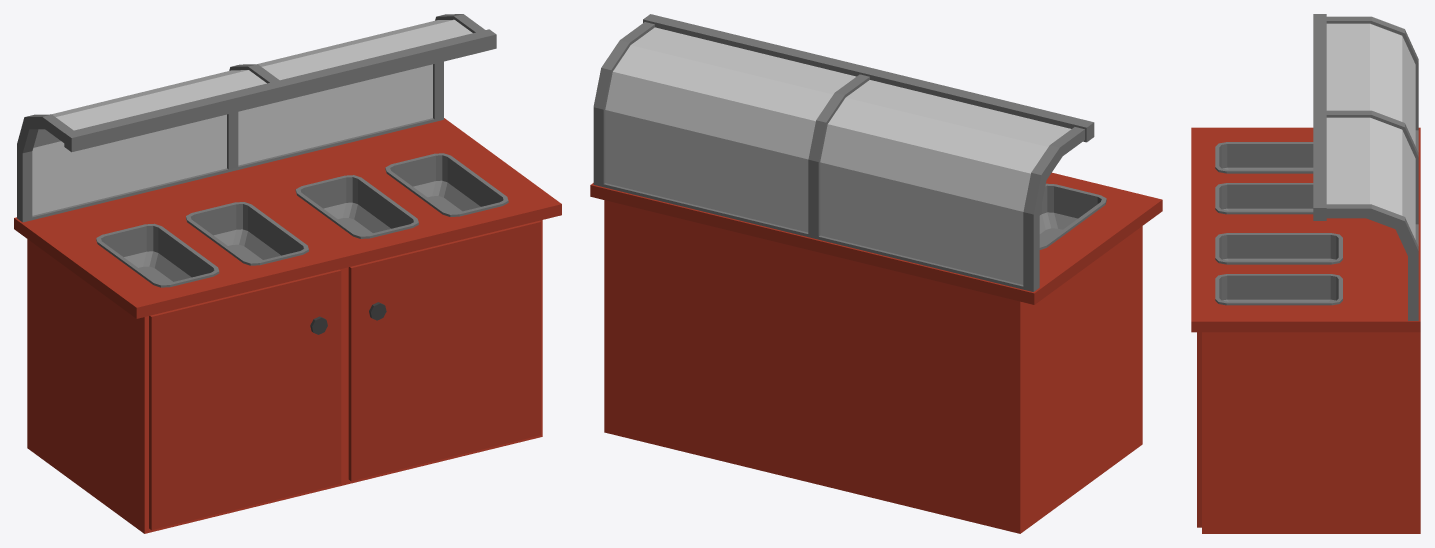
File: Int_KitchenServDesk02.fbx
The picture shows the model from 3 angles, left to right: view 1: azimuth 30°, elevation 25°; view 2: azimuth 150°, elevation 25°; view 3: azimuth 270°, elevation 25°; orthographic projection. The views are drawn at different scales.
Parts seen in each view (by area): view 1: Int_KitchenServDesk02; view 2: Int_KitchenServDesk02; view 3: Int_KitchenServDesk02.
Boxes of the visible parts, x1=… form: Int_KitchenServDesk02: x1=14, y1=14, x2=561, y2=533; Int_KitchenServDesk02: x1=590, y1=14, x2=1162, y2=533; Int_KitchenServDesk02: x1=1191, y1=14, x2=1420, y2=533.
Size of what is drawn, in the model's own units: 200 by 100 by 160.
